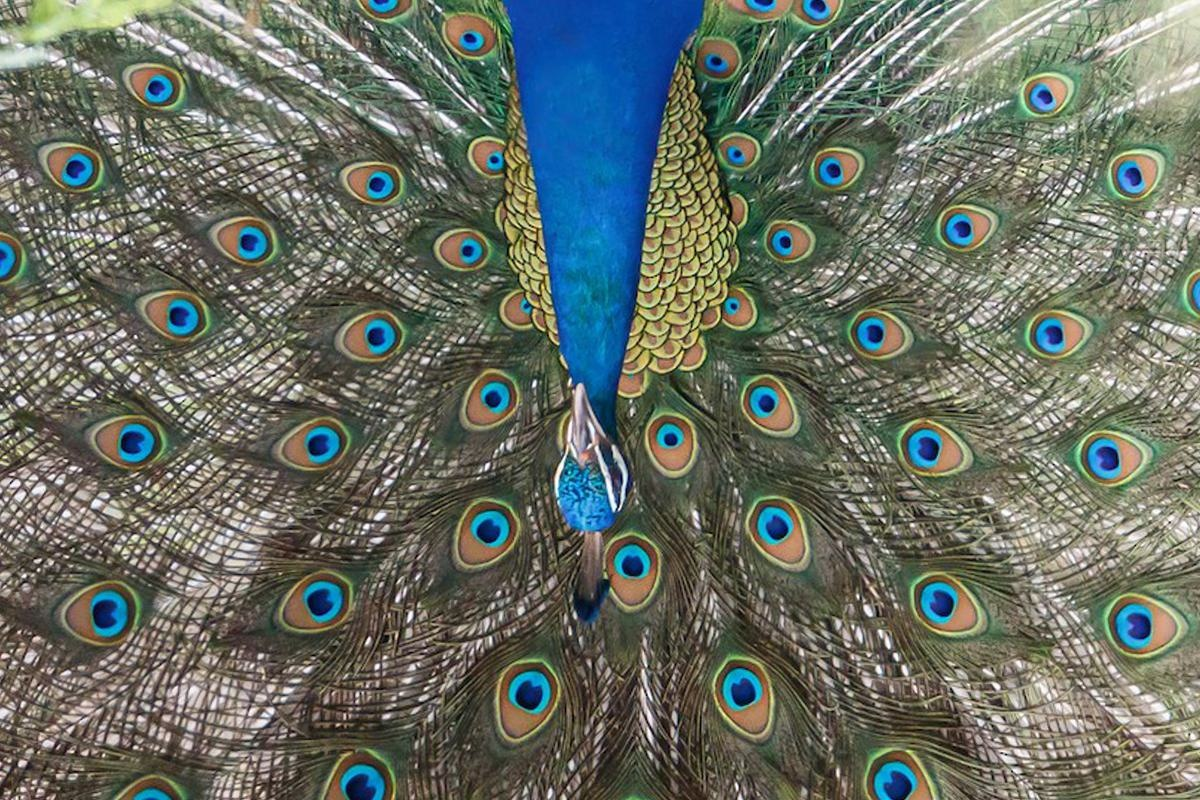peacock: (217, 1, 1004, 673)
